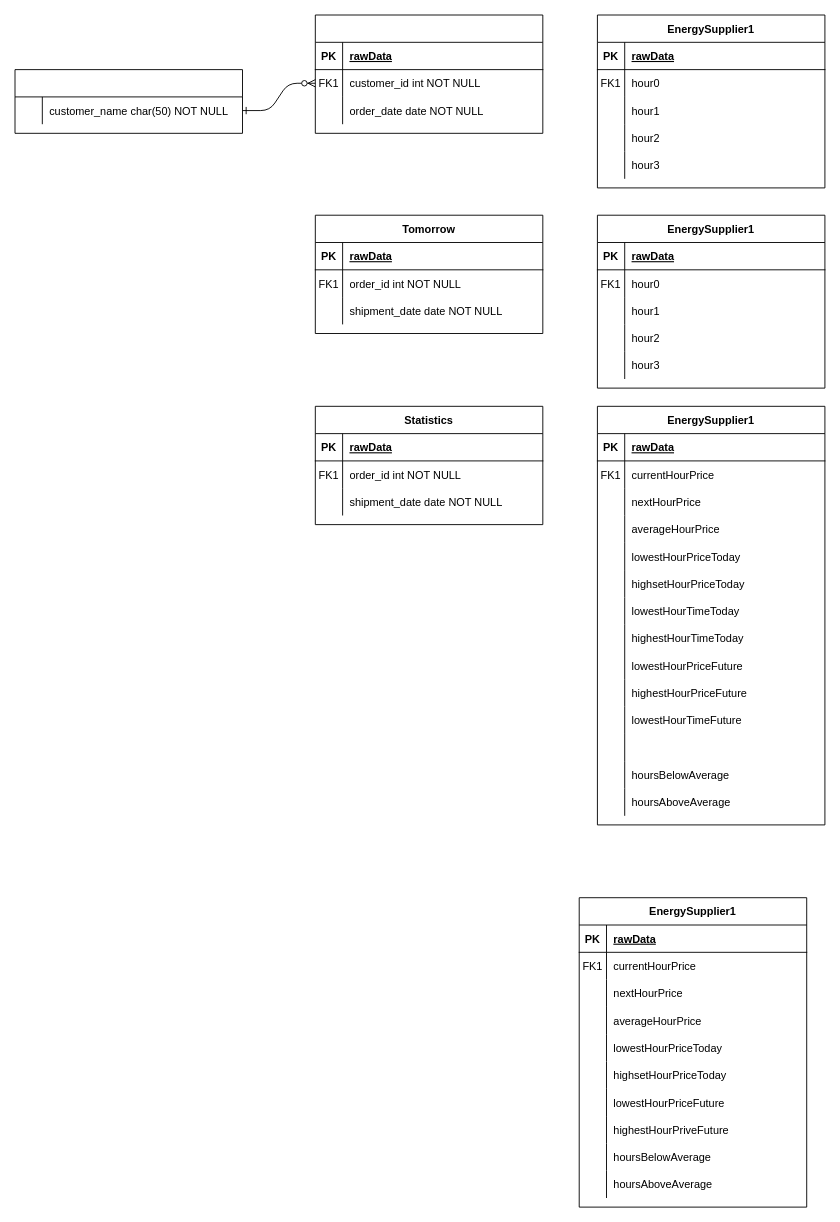
This 840x1222 diagram has some shape labels left out. The shapes that lost their labels are listed below. From the top down, each one's box as (x1, y1, x2, y2) in pixels, then its label:
(314, 14, 543, 133): Today
(14, 69, 243, 133): DynamicTariffs
